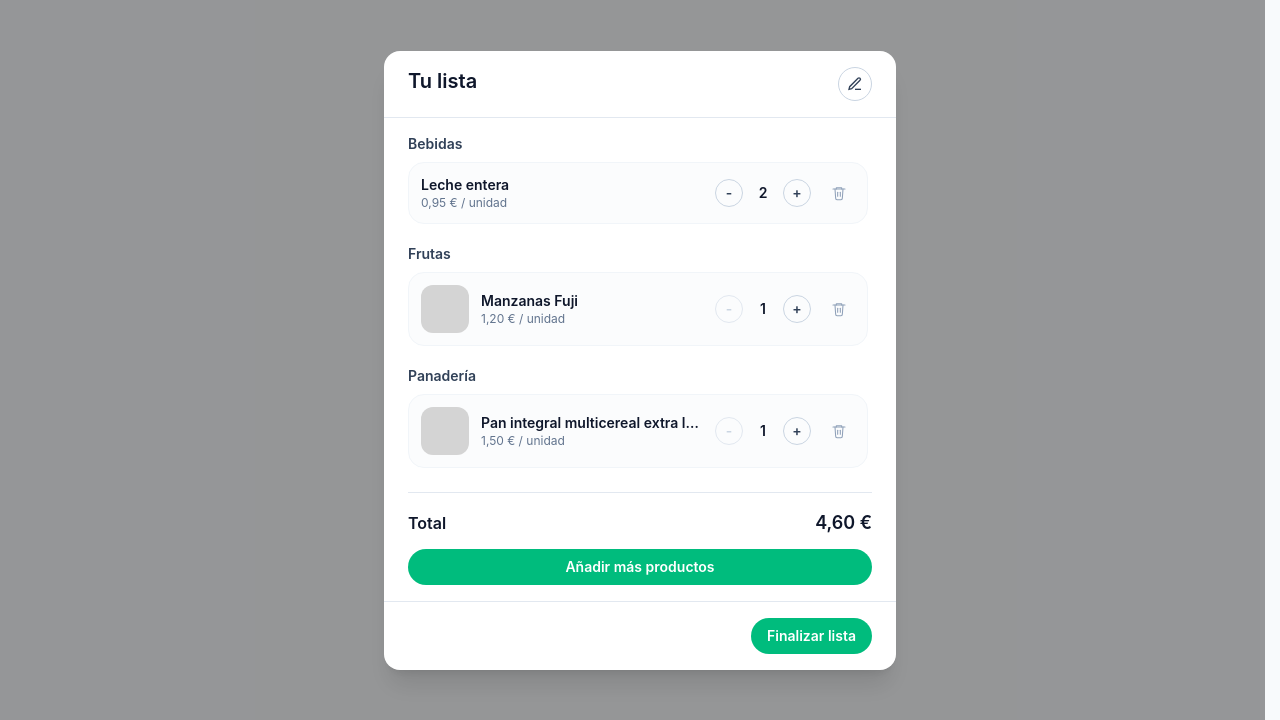
Scenario: ShoppingList › removes a line item and updates total
Expected: the text with test id "total-value" reads "4,60 €", x1=815 y1=512 x2=872 y2=532
Click the button named "Eliminar Leche entera" at (839, 192), box x1=823 y1=176 x2=855 y2=208
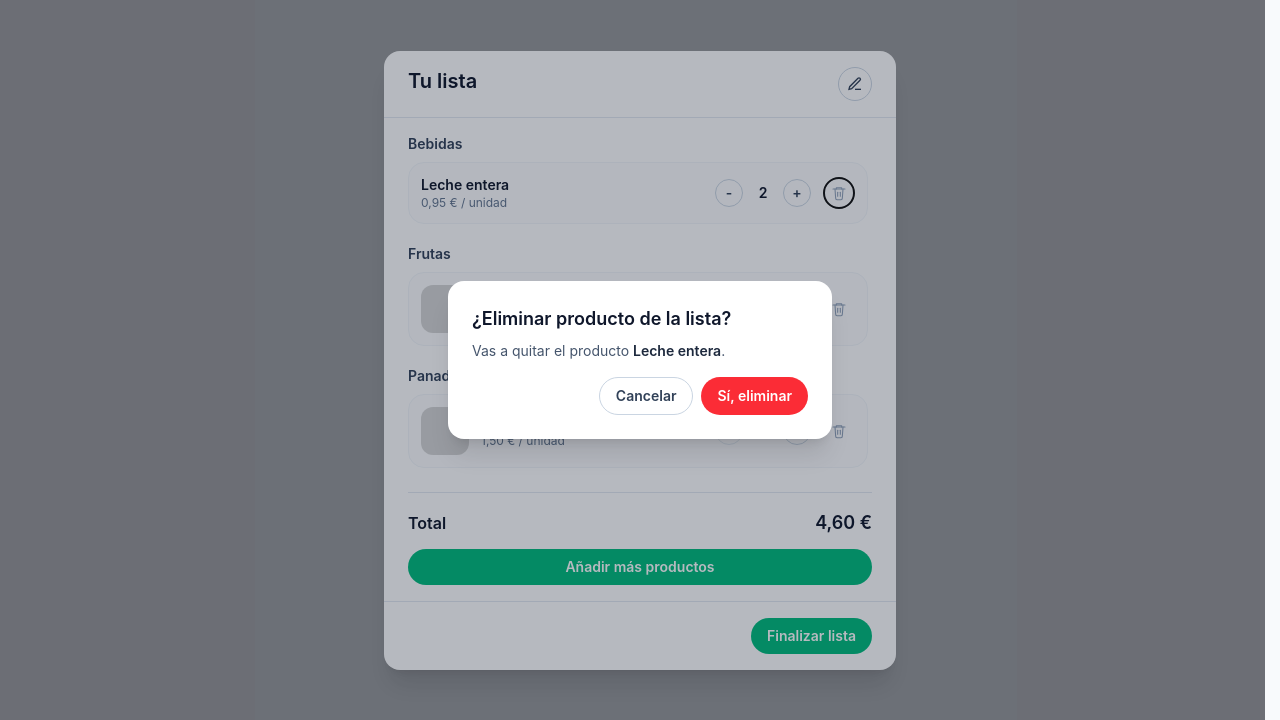
Now the heading "¿Eliminar producto de la lista?" is shown, box x1=472 y1=308 x2=731 y2=329
Click the button "Sí, eliminar" at (755, 396), box x1=702 y1=377 x2=808 y2=415
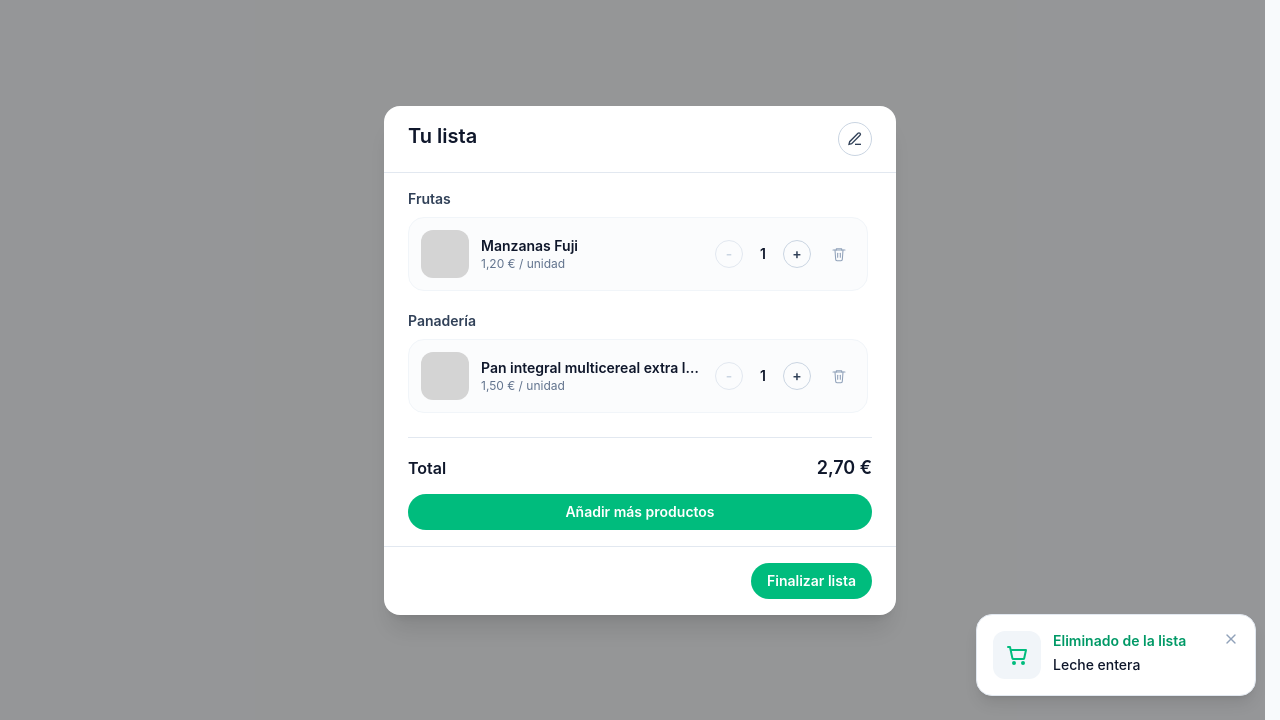
Now the text with test id "total-value" reads "2,70 €", box x1=817 y1=456 x2=872 y2=478
Now the number of list items with test id "shopping-list-item" is 2, box x1=408 y1=216 x2=868 y2=290; x1=408 y1=338 x2=868 y2=412
Now the text "Eliminado de la lista" is shown, box x1=1053 y1=632 x2=1186 y2=649
